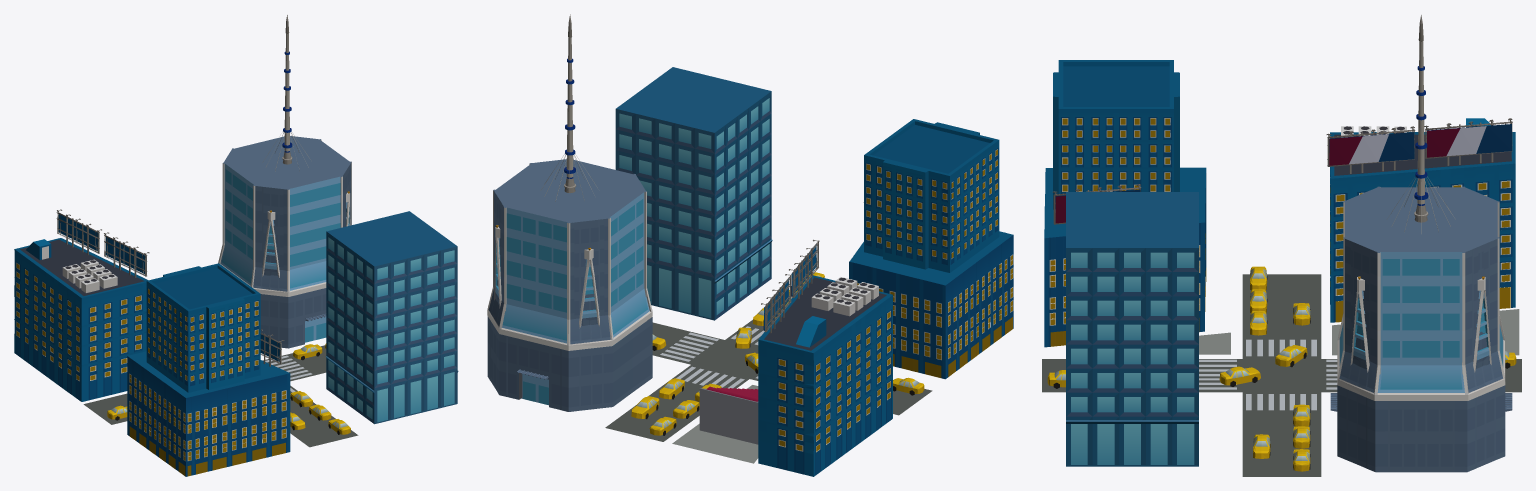
The picture shows the model from 3 angles, left to right: view 1: azimuth 30°, elevation 25°; view 2: azimuth 150°, elevation 25°; view 3: azimuth 270°, elevation 25°; orthographic projection. The views are drawn at different scales.
Parts seen in each view (by area): view 1: timeSquareBase, baseEmpire.003, road.002, baseEmpire.005, roofTop.001, officeFloor.003, officeFloor.001, officeFloor.004; view 2: timeSquareBase, baseEmpire.003, road.002, baseEmpire.005, roofTop.001, Plane.005, officeFloor.001, officeFloor.003; view 3: timeSquareBase, road.002, baseEmpire.003, baseEmpire.005, officeFloor.003, officeFloor.001, Plane.005, taxi_.059, officeFloor.004, taxi_.060.
Part boxes in pixels (bbox=[...]): timeSquareBase: bbox=[14, 136, 457, 476]; baseEmpire.003: bbox=[181, 140, 374, 452]; road.002: bbox=[83, 345, 358, 447]; baseEmpire.005: bbox=[262, 15, 458, 423]; roofTop.001: bbox=[62, 259, 117, 292]; officeFloor.003: bbox=[104, 232, 149, 277]; officeFloor.001: bbox=[56, 209, 101, 255]; officeFloor.004: bbox=[260, 329, 284, 366]; timeSquareBase: bbox=[487, 67, 1013, 476]; baseEmpire.003: bbox=[493, 93, 983, 405]; road.002: bbox=[605, 310, 932, 441]; baseEmpire.005: bbox=[494, 14, 772, 328]; roofTop.001: bbox=[811, 277, 878, 316]; Plane.005: bbox=[672, 385, 758, 463]; officeFloor.001: bbox=[761, 274, 791, 333]; officeFloor.003: bbox=[789, 239, 819, 298]; timeSquareBase: bbox=[1044, 60, 1515, 472]; road.002: bbox=[1042, 274, 1521, 476]; baseEmpire.003: bbox=[1077, 119, 1499, 374]; baseEmpire.005: bbox=[1066, 15, 1491, 466]; officeFloor.003: bbox=[1326, 126, 1415, 173]; officeFloor.001: bbox=[1424, 118, 1512, 165]; Plane.005: bbox=[1199, 309, 1519, 355]; taxi_.059: bbox=[1219, 366, 1260, 386]; officeFloor.004: bbox=[1052, 184, 1141, 224]; taxi_.060: bbox=[1275, 345, 1307, 367].
Size of the model in its own units: 1 by 0.9755 by 1.
